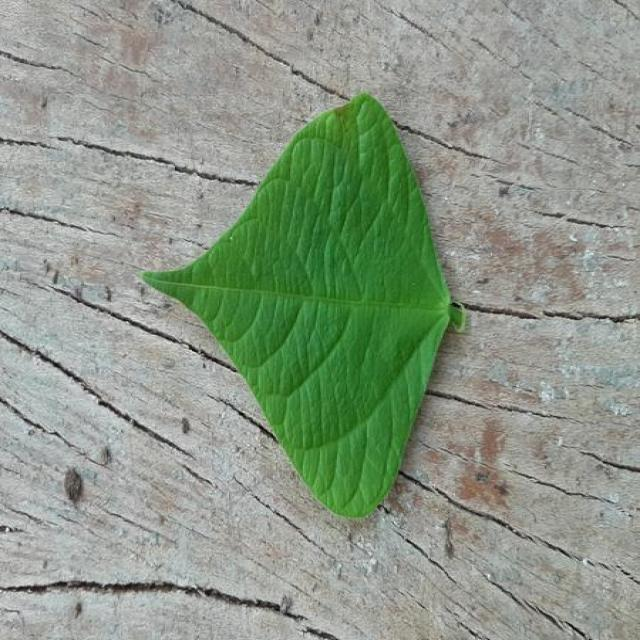beans: (143, 94, 460, 517)
